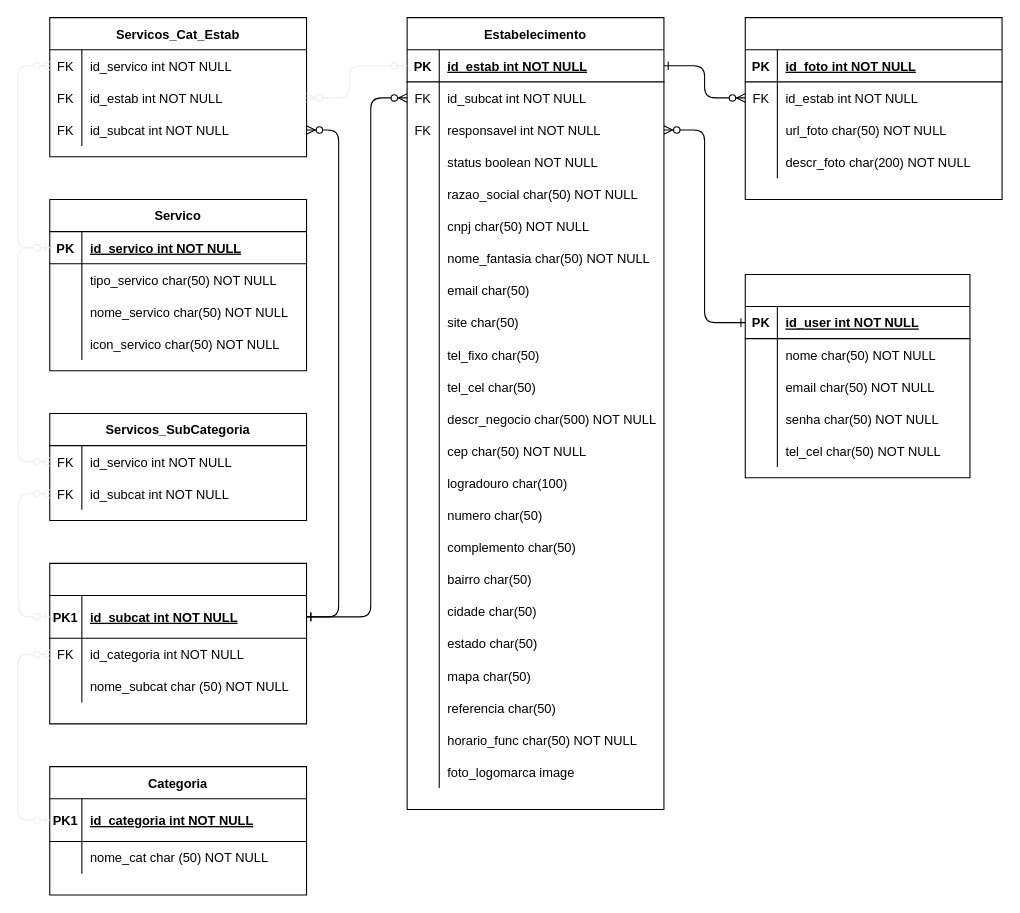
The diagram is 1020 pixels wide and 913 high, and some of its shapes have lost their labels. Here are the shapes that lost their labels. From the top down, the box of each, then its label:
(744, 17, 1002, 200): Fotos
(744, 273, 970, 478): User (login)
(49, 562, 307, 724): SubCategoria
